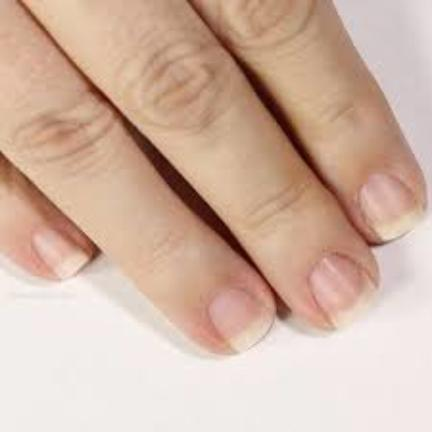Nail: (309, 255, 376, 328), (206, 287, 273, 353), (358, 175, 421, 241), (30, 225, 92, 279)
